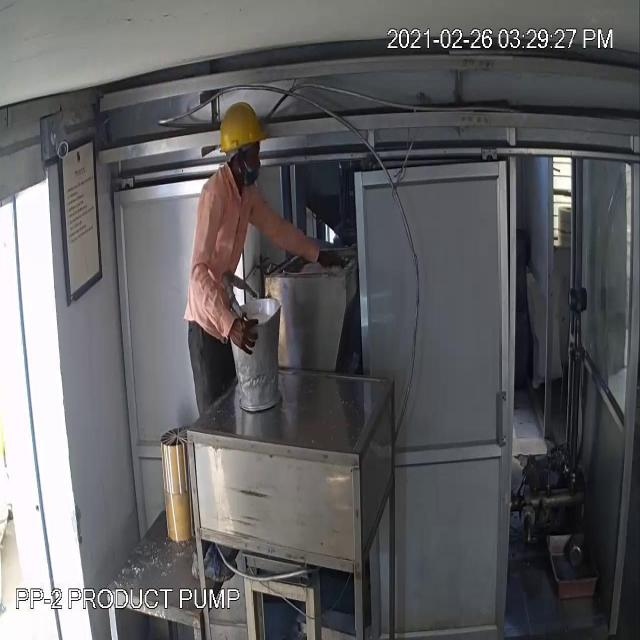hat: (211, 100, 271, 158)
